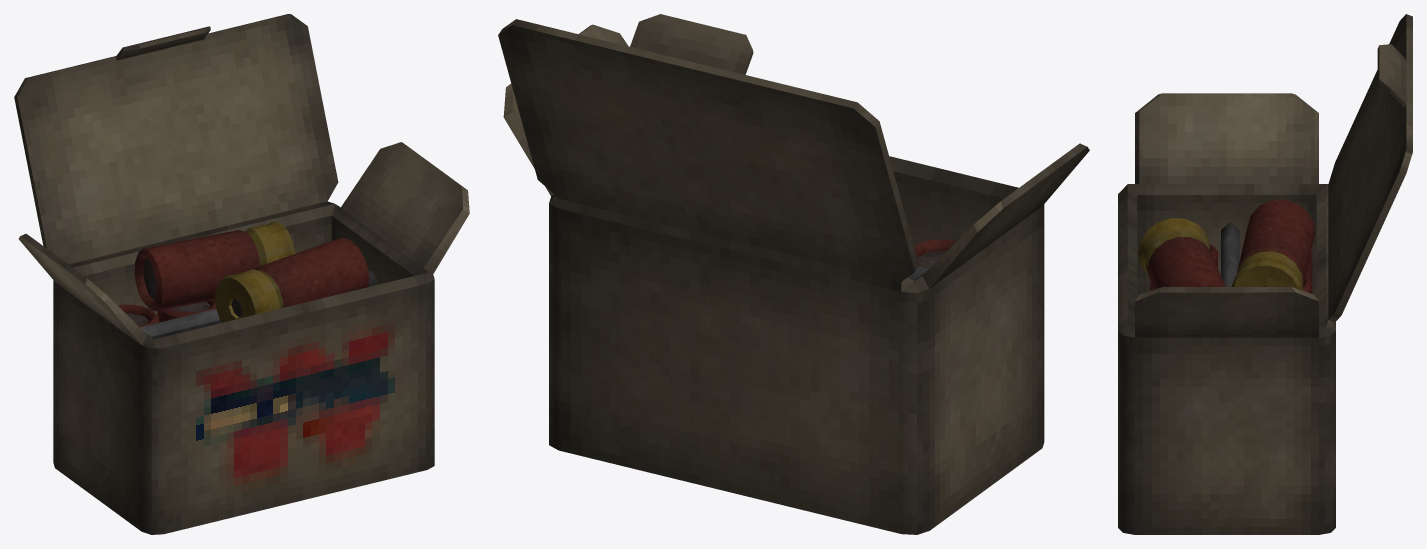
File: shotgun_ammo_2.glb
The picture shows the model from 3 angles, left to right: view 1: azimuth 30°, elevation 25°; view 2: azimuth 150°, elevation 25°; view 3: azimuth 270°, elevation 25°; orthographic projection. The views are drawn at different scales.
Parts seen in each view (by area): view 1: shotgun_ammo_2; view 2: shotgun_ammo_2; view 3: shotgun_ammo_2.
Boxes of the visible parts, box(x1,y1,x2,y2) form: shotgun_ammo_2: box(14, 14, 469, 534); shotgun_ammo_2: box(498, 14, 1089, 534); shotgun_ammo_2: box(1118, 14, 1412, 534).
Bounding box in the file's own units: 0.2486 × 0.2328 × 0.1565.
1 material, 1 textured.
